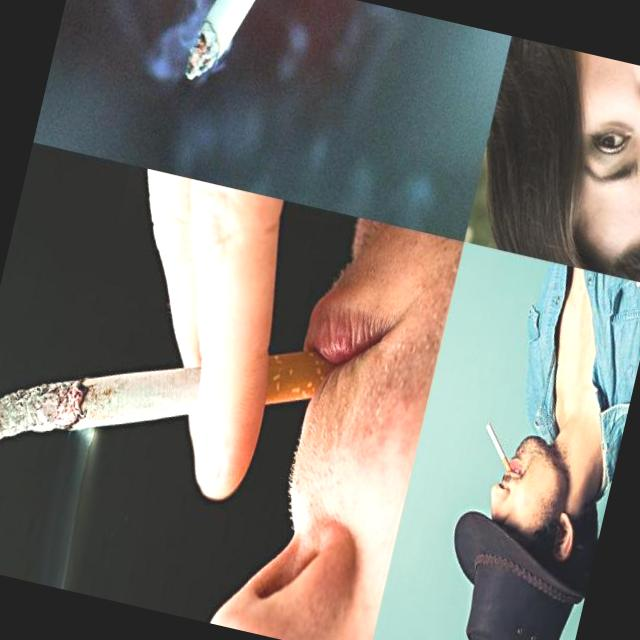smoke: (0, 277, 339, 517), (182, 0, 333, 108), (472, 420, 524, 480)
